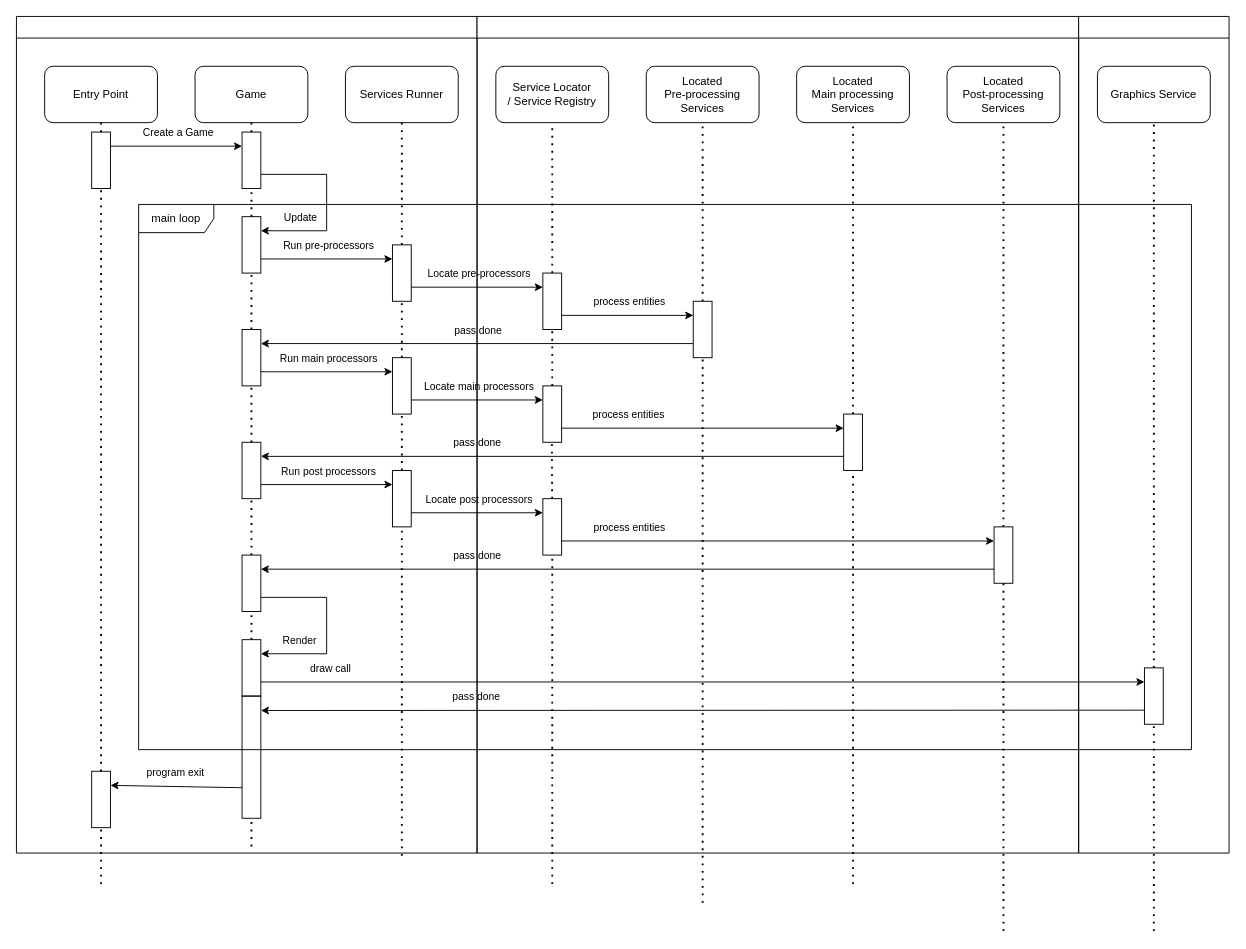
The diagram is 1246 pixels wide and 949 high, and some of its shapes have lost their labels. Each missing label, with the box of its shape:
Commonly Accessible: (476, 16, 1079, 853)
Game Core: (16, 16, 477, 853)
Third Party: (1078, 16, 1229, 853)
